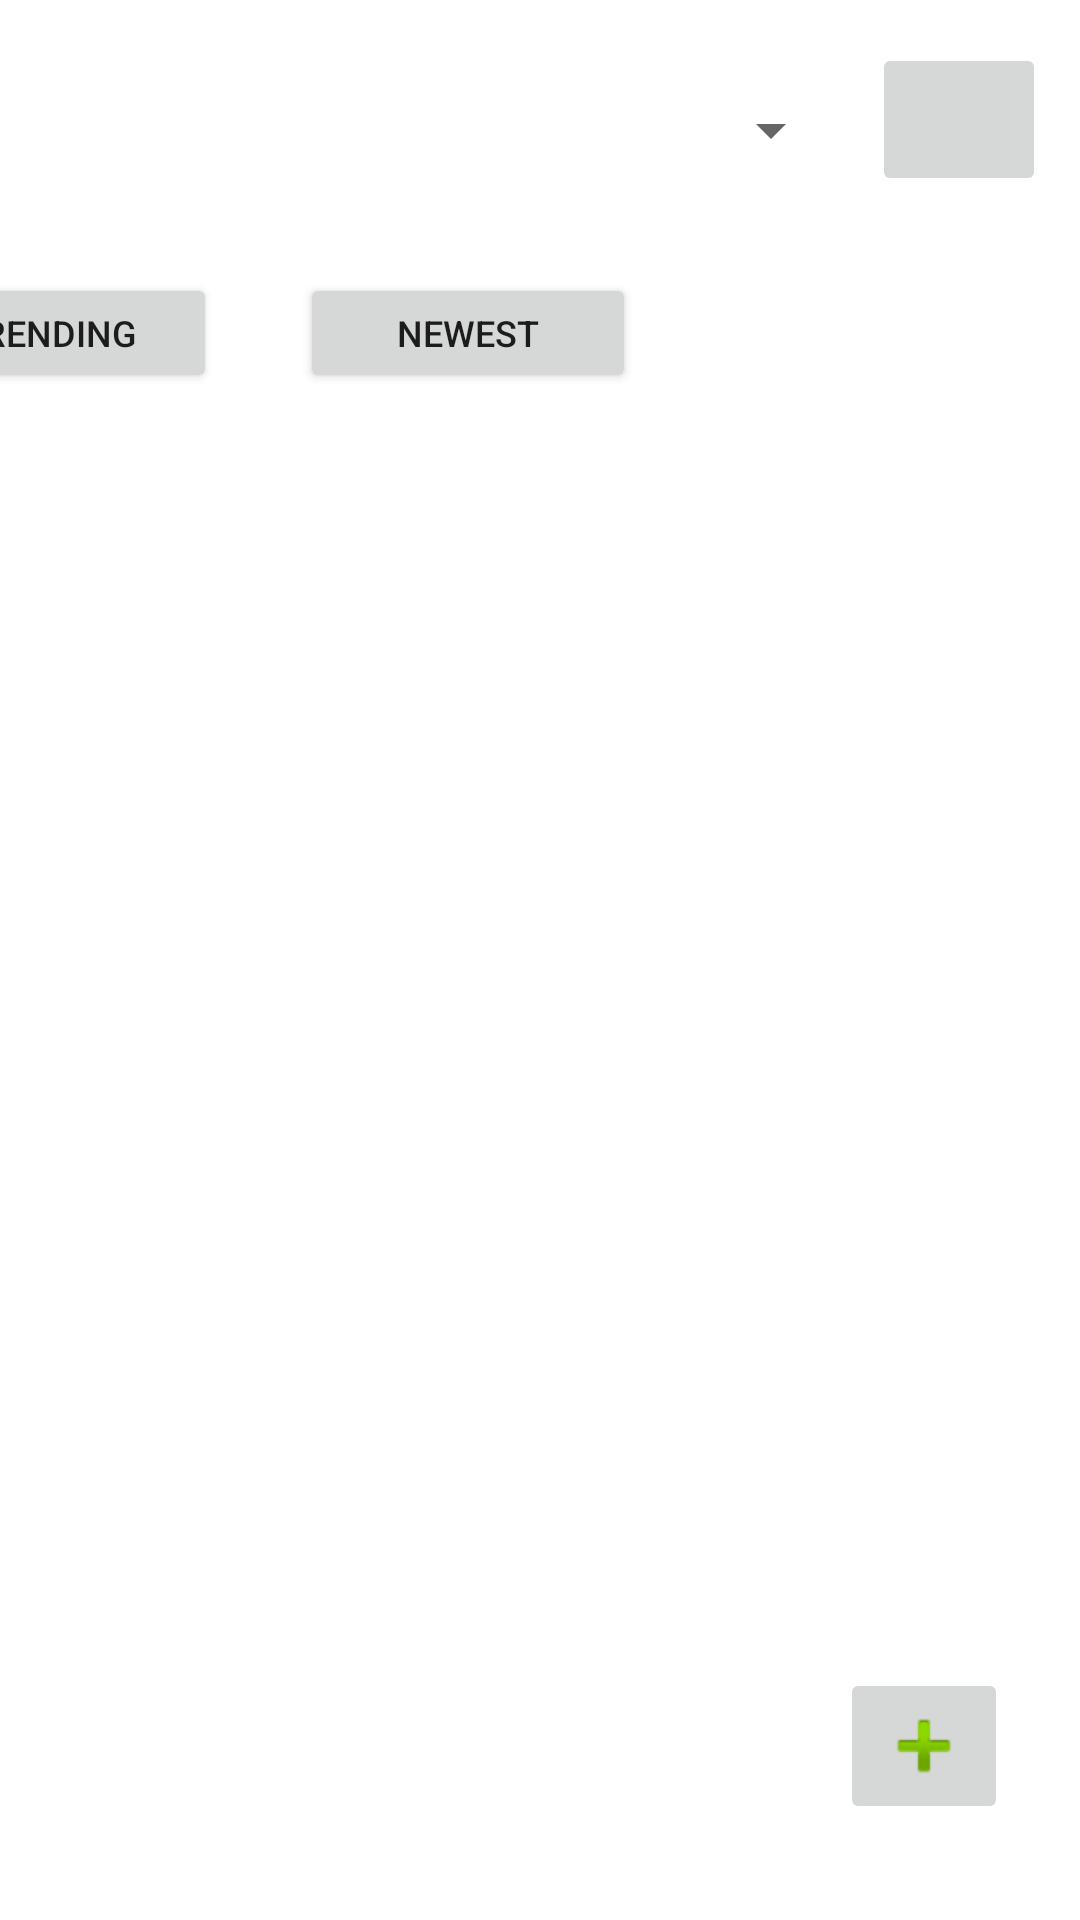

Point at icon controls on the screen. Image size 1080w x 1920h, points as point (x, y).
add: point (924, 1746)
